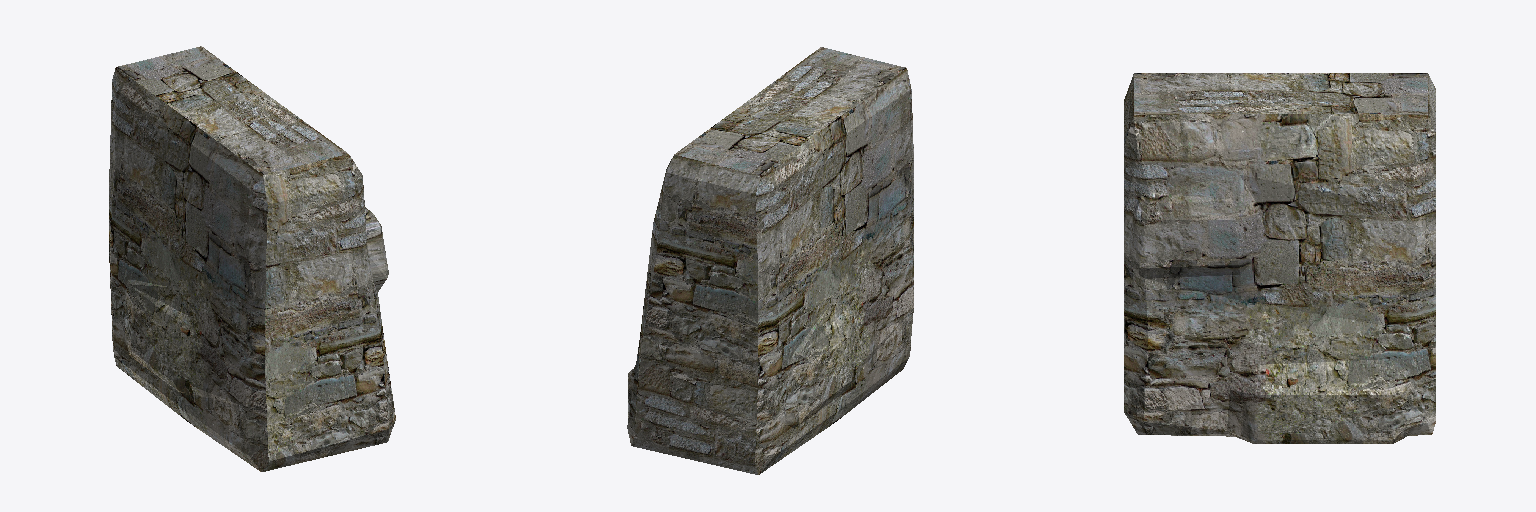
The picture shows the model from 3 angles: view 1: azimuth 30°, elevation 25°; view 2: azimuth 150°, elevation 25°; view 3: azimuth 270°, elevation 25°; orthographic projection.
Parts seen in each view (by area): view 1: ChamferBox01; view 2: ChamferBox01; view 3: ChamferBox01.
Boxes of the visible parts, x1,y1,x2,y2 form: ChamferBox01: [109, 46, 395, 471]; ChamferBox01: [627, 47, 913, 474]; ChamferBox01: [1124, 73, 1435, 443].
Size of the model in its own units: 1.63 by 2.81 by 2.62.
Materials: 1 (1 with a texture image).